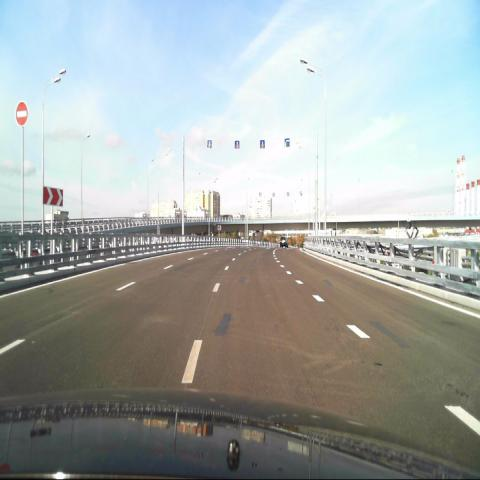3_1: (15, 102, 28, 126)
